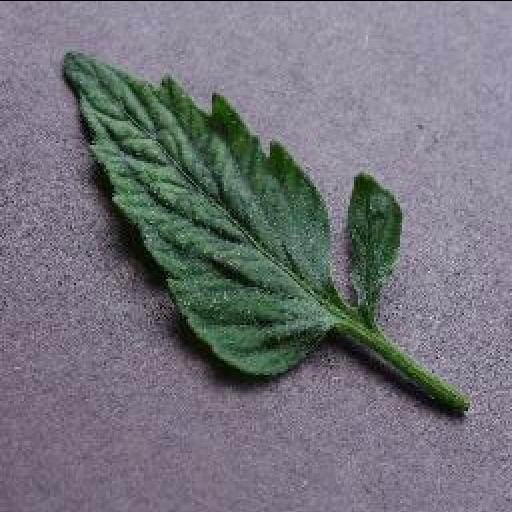Mosaic Virus: (60, 48, 338, 382)
